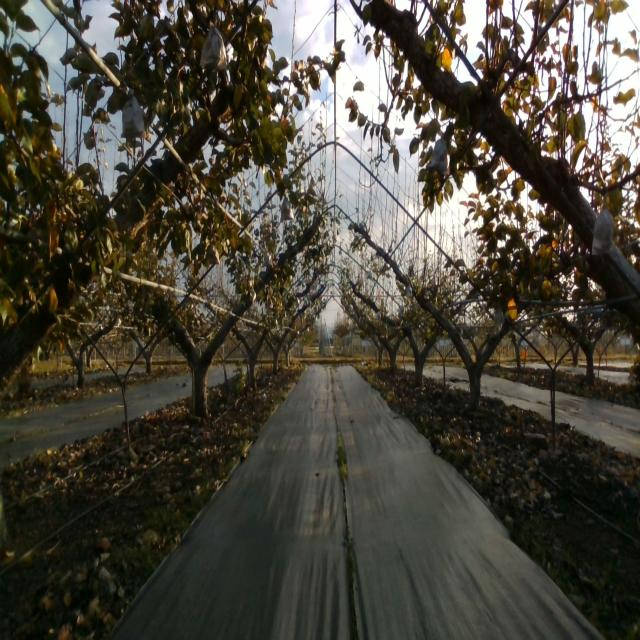pearbags: (199, 18, 227, 71), (120, 88, 146, 140), (592, 208, 614, 255), (429, 135, 450, 175), (280, 197, 294, 223), (205, 244, 221, 265), (494, 304, 504, 334)
